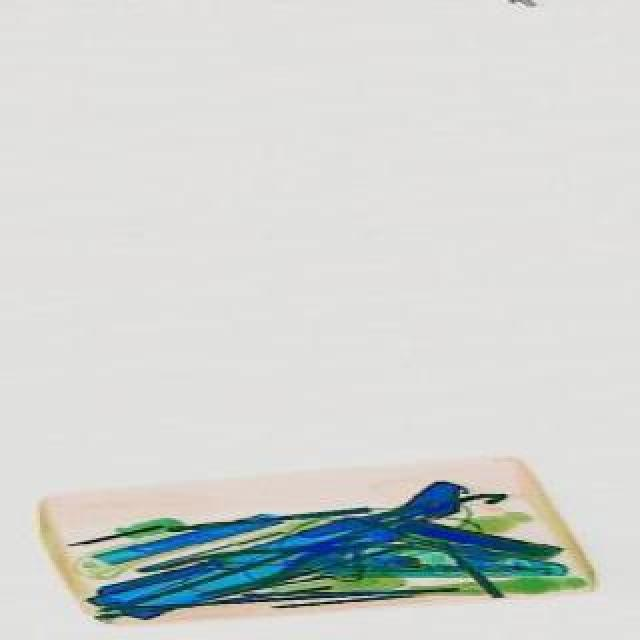wrench: (154, 508, 374, 612)
